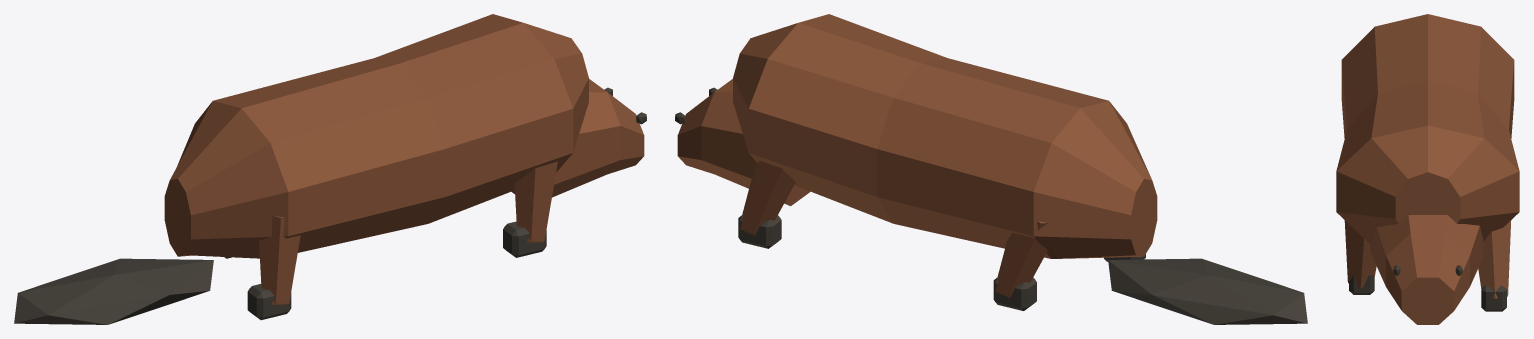
The model's file is beaver.glb.
3 renders of one model, left to right at view 1: azimuth 30°, elevation 25°; view 2: azimuth 150°, elevation 25°; view 3: azimuth 270°, elevation 25°, orthographic. The views are drawn at different scales.
Parts seen in each view (by area): view 1: Sculpted silhouette, Icosphere, Sculpted silhouette.001, Tapered form, Tapered form.002, Cube, Cube.002; view 2: Sculpted silhouette, Icosphere, Sculpted silhouette.001, Tapered form.003, Tapered form.001, Cube.003, Cube.001; view 3: Sculpted silhouette, Sculpted silhouette.001, Tapered form.003, Tapered form.002, Cube.003, Cube.002.
Part boxes in pixels (x1,y1,x2,y2): Sculpted silhouette: (164,14,588,258); Icosphere: (14,258,213,324); Sculpted silhouette.001: (511,79,644,197); Tapered form: (259,216,300,304); Tapered form.002: (514,161,557,242); Cube: (247,284,291,320); Cube.002: (503,221,546,257); Sculpted silhouette: (733,14,1157,258); Icosphere: (1108,258,1307,324); Sculpted silhouette.001: (677,79,810,206); Tapered form.003: (740,161,795,235); Tapered form.001: (995,221,1047,297); Cube.003: (738,214,781,248); Cube.001: (993,276,1036,310); Sculpted silhouette: (1336,14,1519,244); Sculpted silhouette.001: (1370,215,1483,324); Tapered form.003: (1478,220,1511,298); Tapered form.002: (1344,220,1376,288); Cube.003: (1481,285,1506,311); Cube.002: (1349,274,1374,294).
Bounding box in the file's own units: 1.16 × 0.3488 × 0.3234.
